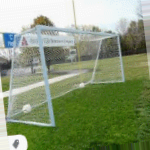goals: (5, 23, 126, 128)
